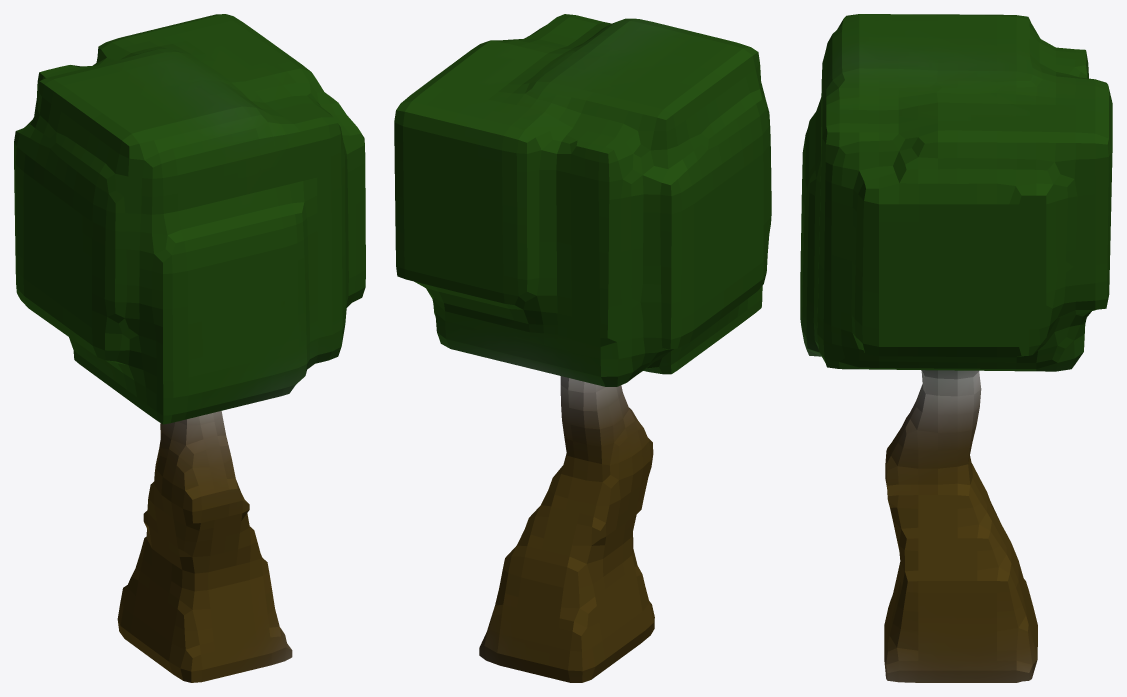
The model's file is Boxed_4.glb.
The picture shows the model from 3 angles, left to right: view 1: azimuth 30°, elevation 25°; view 2: azimuth 150°, elevation 25°; view 3: azimuth 270°, elevation 25°; orthographic projection.
Parts seen in each view (by area): view 1: Boxed_4; view 2: Boxed_4; view 3: Boxed_4.
Boxes of the visible parts, left/top/right/bottom form: Boxed_4: left=14, top=14, right=365, bottom=682; Boxed_4: left=394, top=14, right=771, bottom=682; Boxed_4: left=800, top=14, right=1112, bottom=682.
Bounding box in the file's own units: 1.97 × 4.03 × 1.94.
